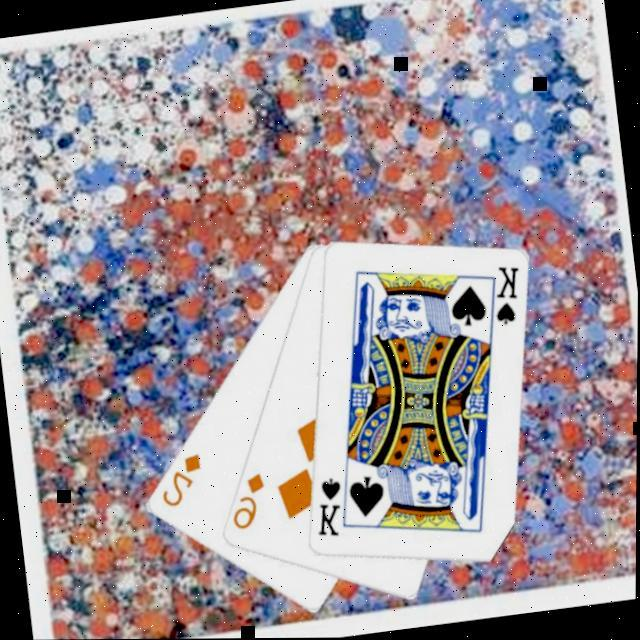2D: (155, 448, 209, 509)
9D: (224, 467, 273, 532)
KS: (480, 260, 528, 332), (308, 471, 350, 540)
